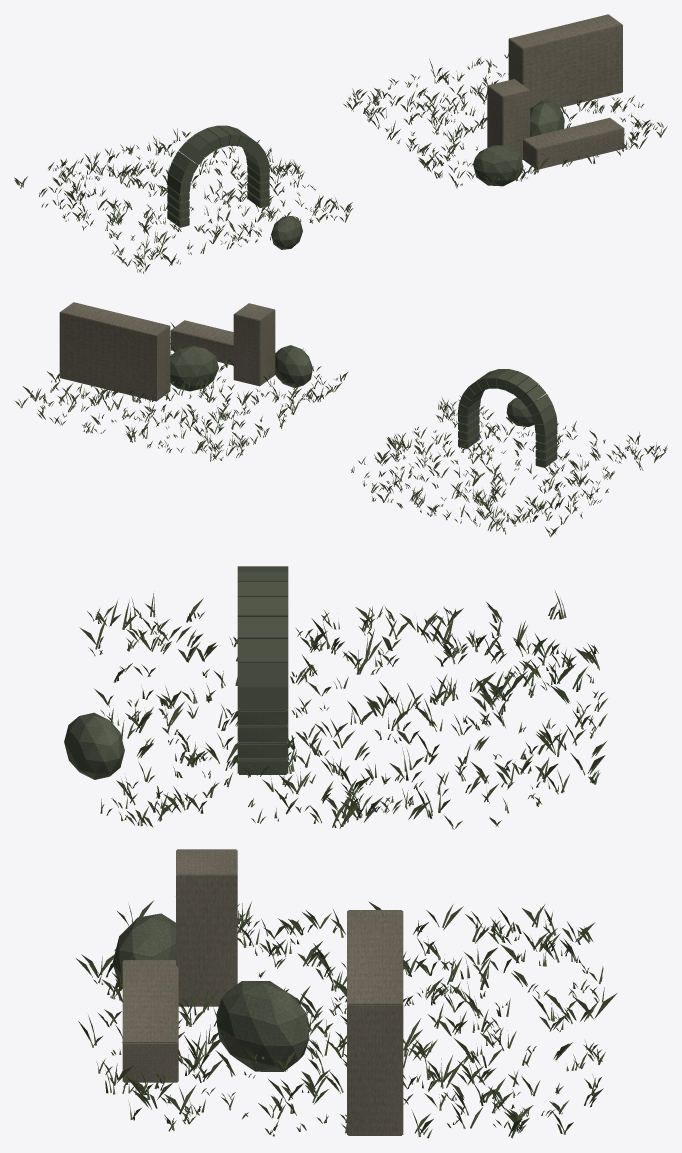
The model's file is ruins-v1.glb.
The picture shows the model from 3 angles, top to bottom: view 1: azimuth 30°, elevation 25°; view 2: azimuth 150°, elevation 25°; view 3: azimuth 270°, elevation 25°; orthographic projection. The views are drawn at different scales.
Visible parts, largest first — view 1: Grass blades, Wall remnant, Masonry arch 0 pier, Fractured rock outcrop, Fallen lintel, Broken pier; view 2: Grass blades, Wall remnant, Masonry arch 0 pier, Fractured rock outcrop, Broken pier, Fallen lintel; view 3: Grass blades, Wall remnant, Fractured rock outcrop, Masonry arch 0 pier, Broken pier, Fallen lintel.
Part boxes in pixels (left/top/right/bottom): Grass blades: left=14, top=53, right=667, bottom=273; Wall remnant: left=508, top=14, right=622, bottom=108; Masonry arch 0 pier: left=167, top=125, right=269, bottom=227; Fractured rock outcrop: left=271, top=100, right=564, bottom=249; Fallen lintel: left=523, top=117, right=624, bottom=169; Broken pier: left=487, top=79, right=530, bottom=159; Grass blades: left=14, top=322, right=667, bottom=537; Wall remnant: left=59, top=302, right=170, bottom=401; Masonry arch 0 pier: left=457, top=369, right=557, bottom=467; Fractured rock outcrop: left=170, top=345, right=536, bottom=426; Broken pier: left=233, top=303, right=275, bottom=386; Fallen lintel: left=170, top=320, right=233, bottom=365; Grass blades: left=76, top=591, right=617, bottom=1138; Wall remnant: left=347, top=910, right=403, bottom=1135; Fractured rock outcrop: left=64, top=712, right=309, bottom=1071; Masonry arch 0 pier: left=237, top=566, right=288, bottom=774; Broken pier: left=176, top=849, right=237, bottom=1006; Fallen lintel: left=122, top=960, right=178, bottom=1082.
Size of what is drawn, in the model's own units: 22.52 by 3.64 by 9.87.
Materials: 5 (5 with a texture image).
